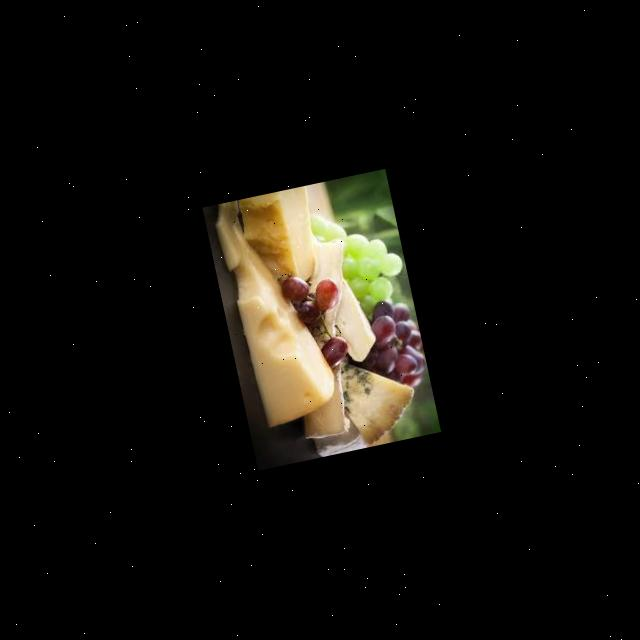grape: (336, 294, 429, 399)
